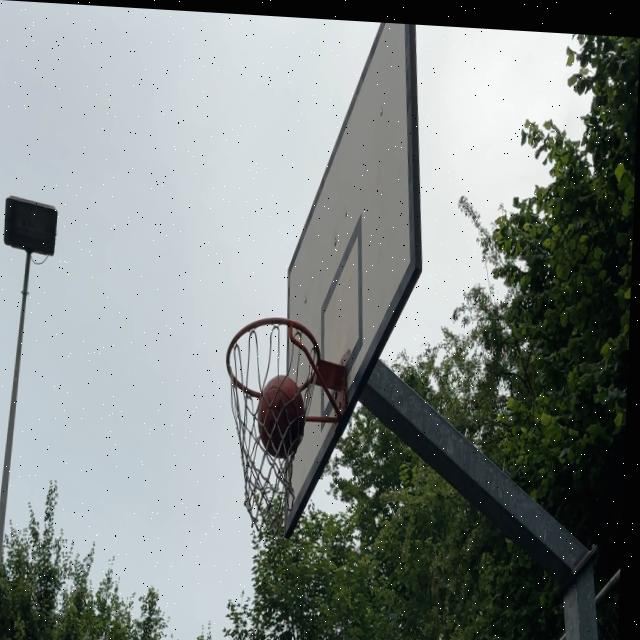Goal: (258, 373, 306, 457)
